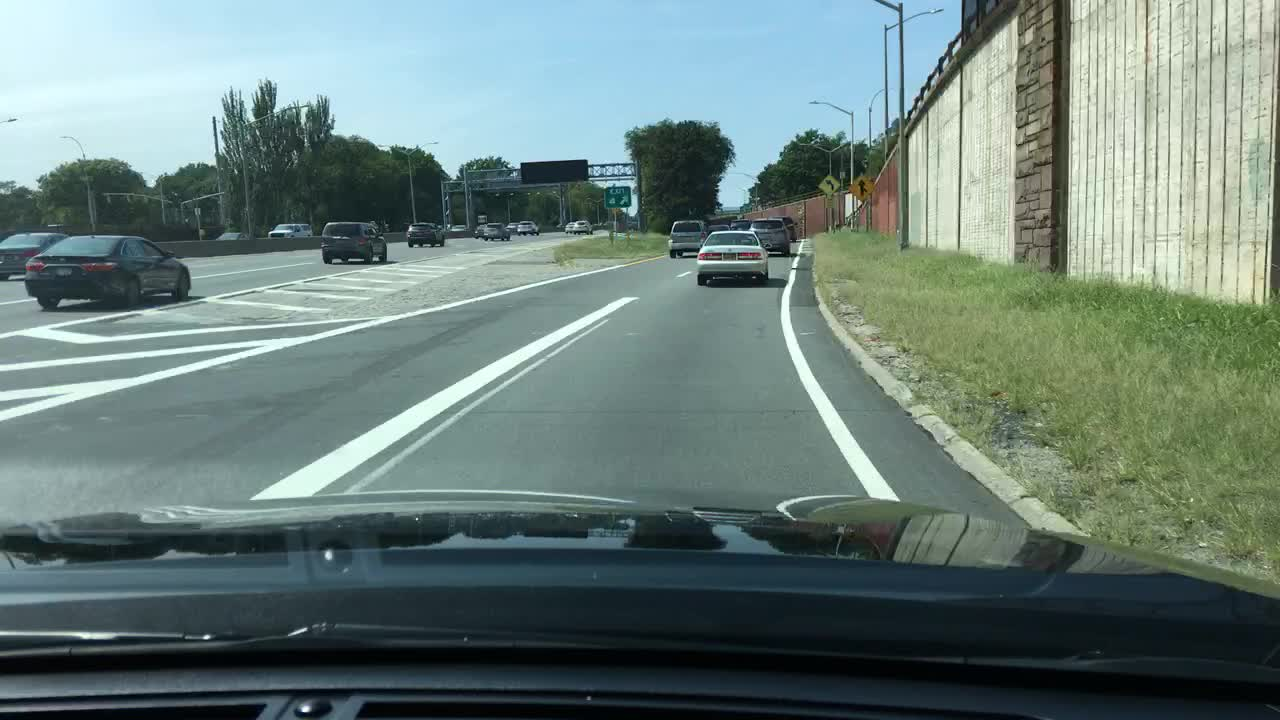car: (25, 234, 191, 309), (696, 230, 770, 286), (0, 231, 73, 279), (320, 221, 388, 265), (749, 217, 792, 255), (668, 220, 708, 258), (407, 221, 444, 247), (265, 223, 312, 238), (773, 214, 798, 242), (484, 221, 510, 239), (517, 219, 539, 236), (574, 219, 595, 236), (728, 219, 752, 232), (217, 230, 249, 239), (505, 220, 521, 235), (472, 225, 485, 239), (563, 222, 574, 233), (452, 223, 466, 230)
traffic sign: (520, 160, 590, 183), (851, 174, 874, 202), (604, 185, 634, 206), (815, 173, 840, 196), (193, 207, 200, 219)
